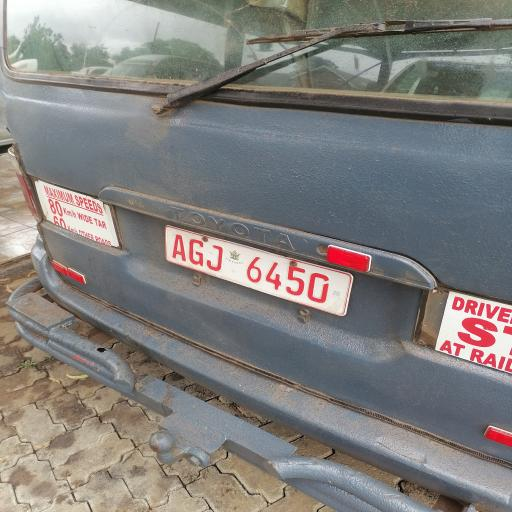number-plates: (157, 216, 360, 316)
